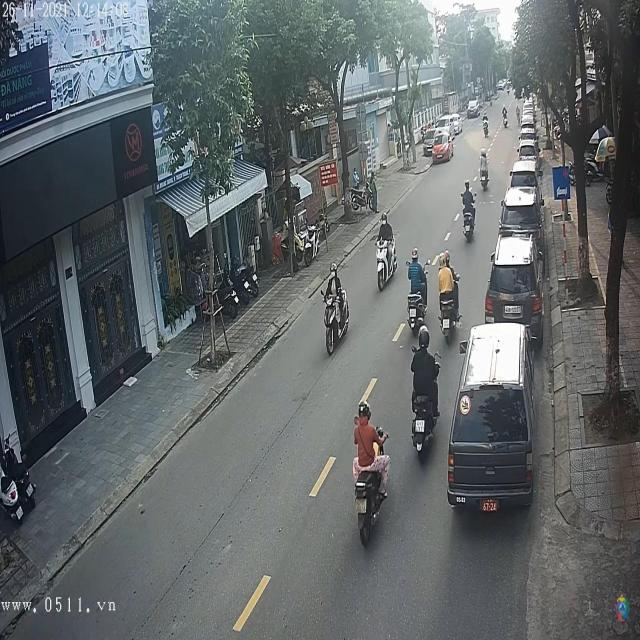car: (448, 323, 536, 510), (485, 236, 543, 332), (499, 187, 542, 237), (517, 142, 538, 163), (518, 124, 536, 143), (468, 98, 481, 116)
motorcycle: (353, 450, 389, 550), (408, 377, 442, 467), (322, 289, 349, 360), (406, 271, 431, 335), (440, 277, 463, 341), (375, 234, 399, 291), (464, 210, 476, 240)
